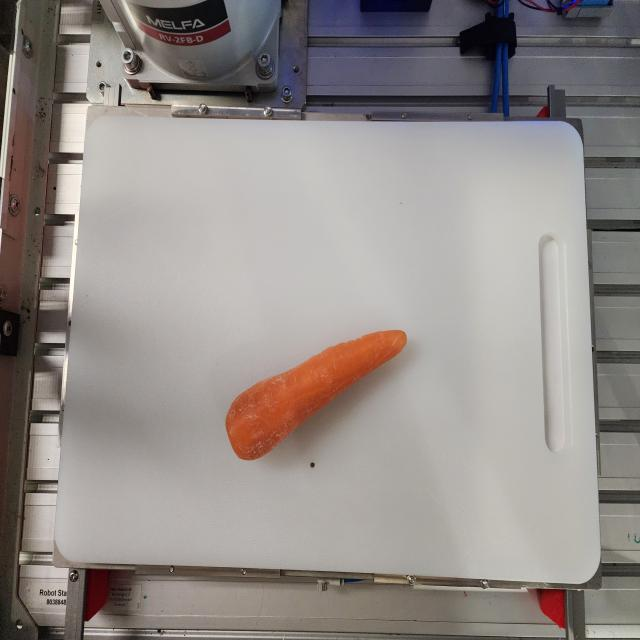carrot: (225, 328, 407, 461)
